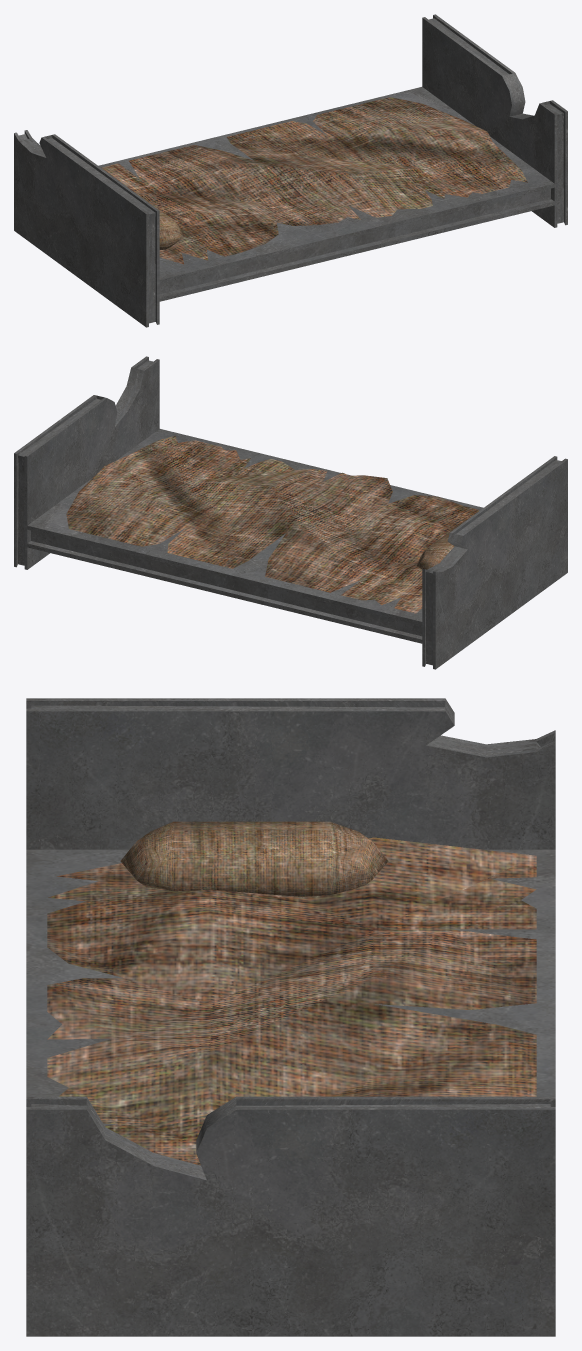
File: Bed_2.FBX
3 views of the same model, one above another, from view 1: azimuth 30°, elevation 25°; view 2: azimuth 150°, elevation 25°; view 3: azimuth 270°, elevation 25° (orthographic). The views are drawn at different scales.
Parts seen in each view (by area): view 1: Bed_2; view 2: Bed_2; view 3: Bed_2.
Boxes of the visible parts, x1,y1,x2,y2 form: Bed_2: (14, 14, 567, 327); Bed_2: (14, 356, 567, 669); Bed_2: (26, 698, 555, 1336).
Size of the model in its own units: 88.08 by 22.65 by 47.91.
